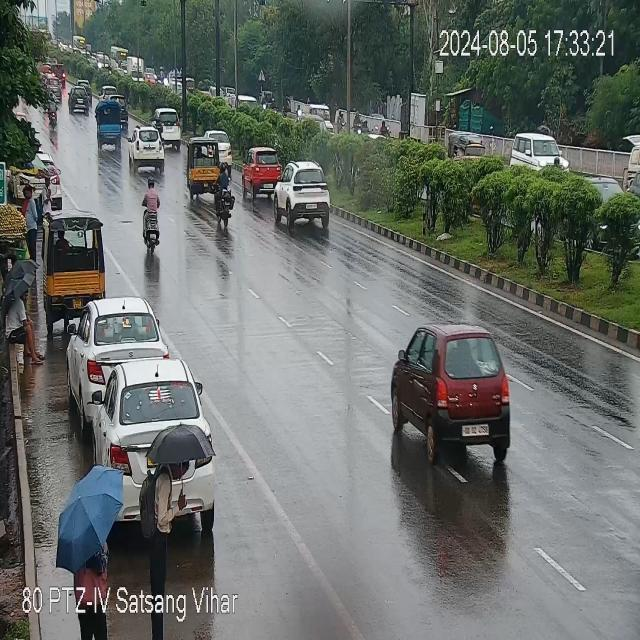2-wheelers: (139, 177, 164, 257), (210, 163, 239, 226), (48, 96, 58, 132), (154, 117, 162, 138)
auto: (44, 213, 110, 317), (186, 137, 223, 194), (448, 134, 511, 163), (449, 128, 484, 161)
car: (382, 321, 518, 468), (100, 363, 202, 466), (68, 297, 160, 403), (274, 174, 333, 231), (509, 129, 567, 177), (244, 147, 281, 201), (128, 128, 166, 172), (163, 107, 184, 149), (217, 129, 236, 168), (69, 84, 90, 116), (118, 94, 130, 131), (100, 84, 118, 100), (84, 78, 93, 99)
pedestrian: (148, 428, 176, 578), (3, 289, 48, 371), (84, 539, 119, 590), (22, 182, 38, 256)
truck: (98, 99, 121, 151)
